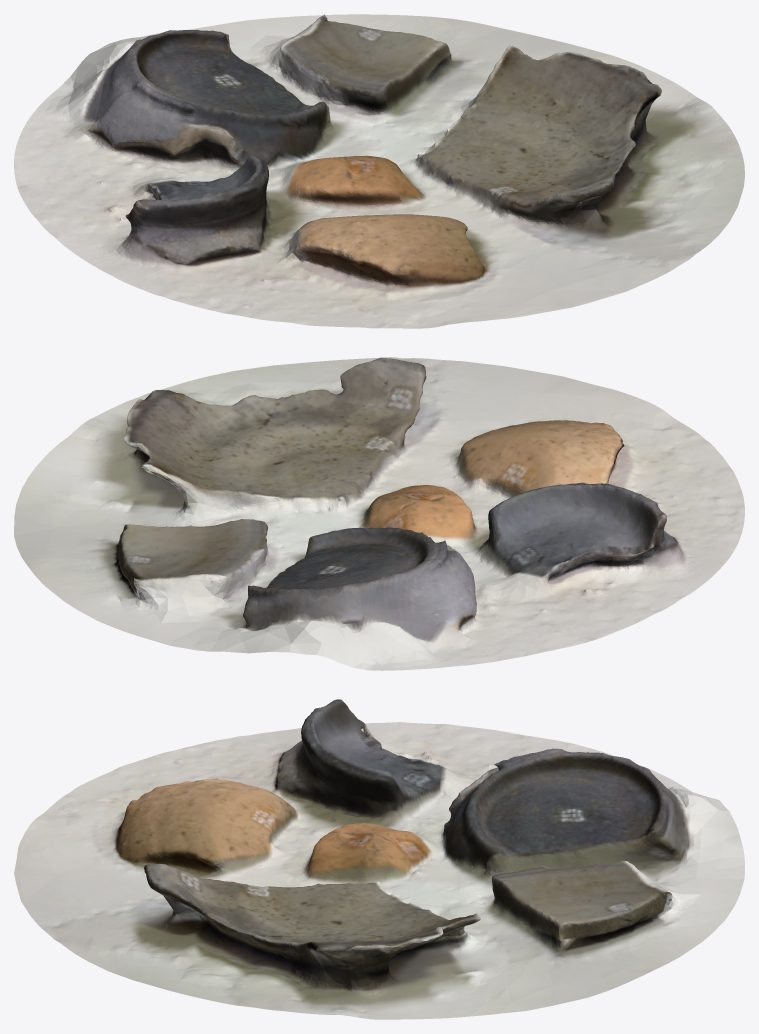
The picture shows the model from 3 angles, top to bottom: view 1: azimuth 30°, elevation 25°; view 2: azimuth 150°, elevation 25°; view 3: azimuth 270°, elevation 25°; orthographic projection. The views are drawn at different scales.
Visible parts, largest first — view 1: mesh; view 2: mesh; view 3: mesh.
Part boxes in pixels (left/top/right/bottom): mesh: left=14, top=14, right=744, bottom=328; mesh: left=14, top=357, right=744, bottom=670; mesh: left=14, top=699, right=744, bottom=1019.
Size of the model in its own units: 0.3058 by 0.0301 by 0.3182.
1 material, 1 textured.
